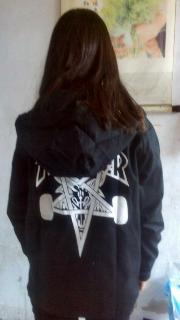long sleeve top: (6, 115, 164, 320)
